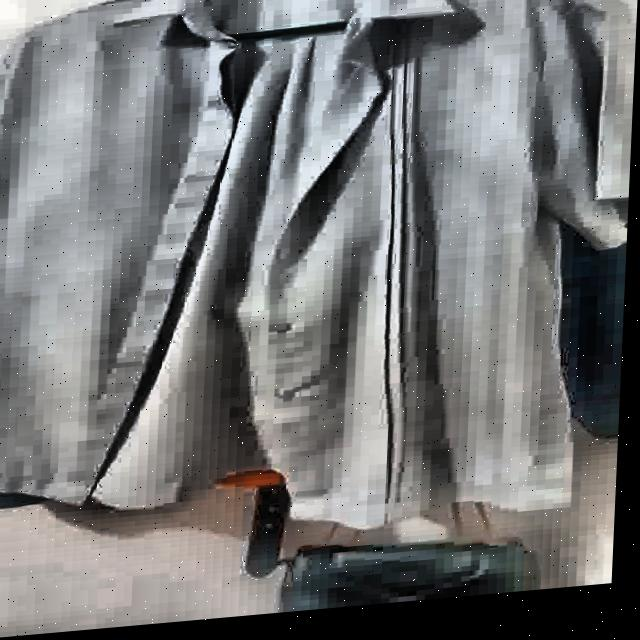clothes: (0, 0, 634, 580)
